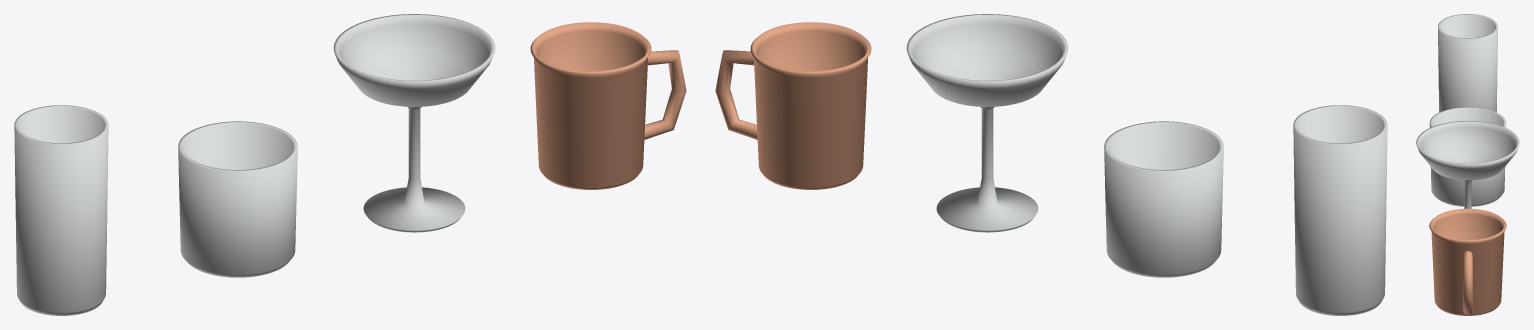
Rendered from copos.glb.
3 views of the same model, side by side, from view 1: azimuth 30°, elevation 25°; view 2: azimuth 150°, elevation 25°; view 3: azimuth 270°, elevation 25° (orthographic). The views are drawn at different scales.
Parts seen in each view (by area): view 1: copo_caneca, copo_highball, copo_rocks, copo_coupe; view 2: copo_caneca, copo_highball, copo_rocks, copo_coupe; view 3: copo_caneca, copo_highball, copo_coupe, copo_rocks.
Boxes of the visible parts, x1,y1,x2,y2 form: copo_caneca: (530,22,686,189); copo_highball: (14,105,108,315); copo_rocks: (178,121,297,277); copo_coupe: (333,14,495,232); copo_caneca: (715,22,871,189); copo_highball: (1293,105,1387,315); copo_rocks: (1104,121,1223,277); copo_coupe: (906,14,1068,232); copo_caneca: (1429,208,1506,315); copo_highball: (1438,14,1497,112); copo_coupe: (1416,121,1519,208); copo_rocks: (1429,107,1506,206).
Size of the model in its own units: 0.603 by 0.15 by 0.127.
